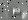person: (22, 8, 28, 20), (15, 7, 21, 17)
